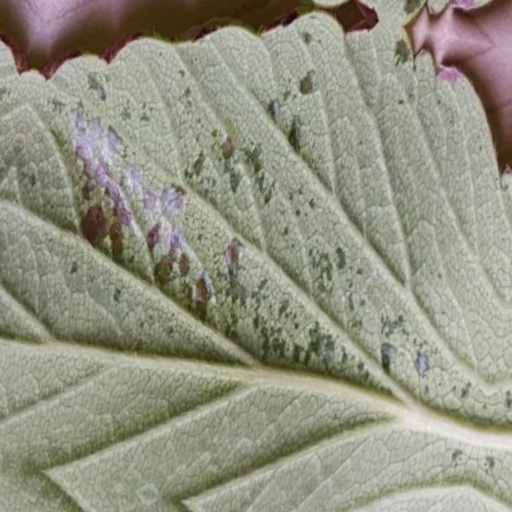Angular Leafspot: (0, 79, 511, 511)
